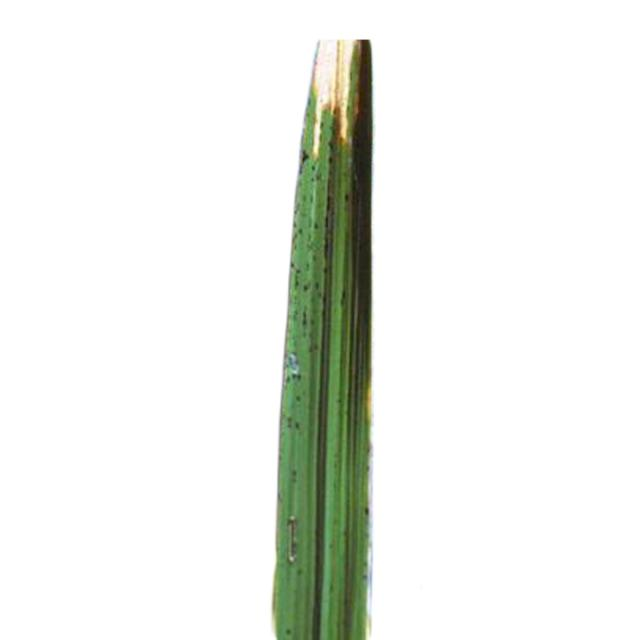Leaf scald: (148, 0, 498, 640)
